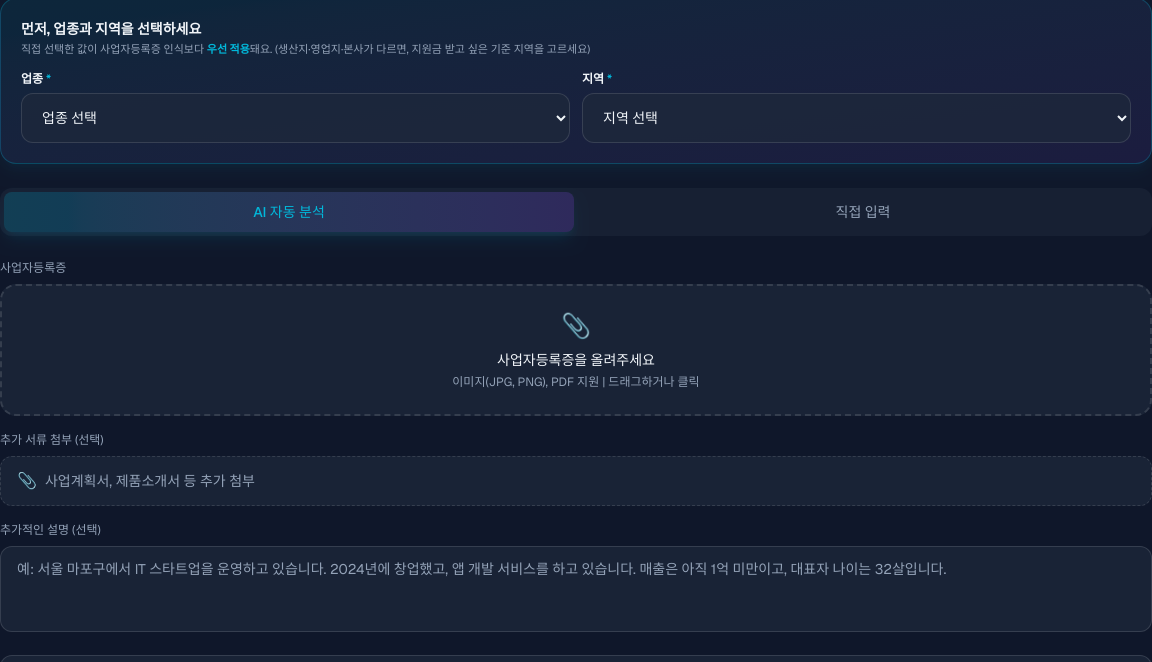
Scenario: ConditionForm: AI 분석 fetch › 분석 성공 시 'AI 분석 결과' 헤더 노출
Replace the text in the text box with placeholder "서울 마포구에서 IT 스타트업" with "테스트" at (576, 589), box [0,546,1151,632]
(page scrolled)
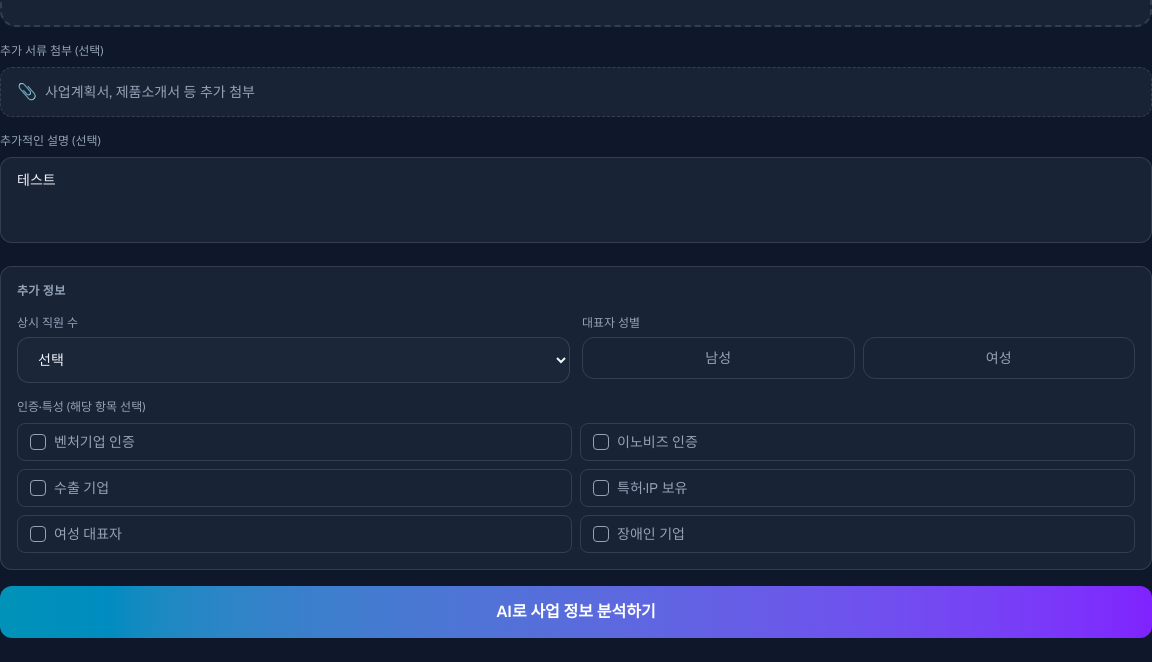
Click the button "AI로 사업 정보 분석하기" at (576, 612), box [0,586,1151,638]
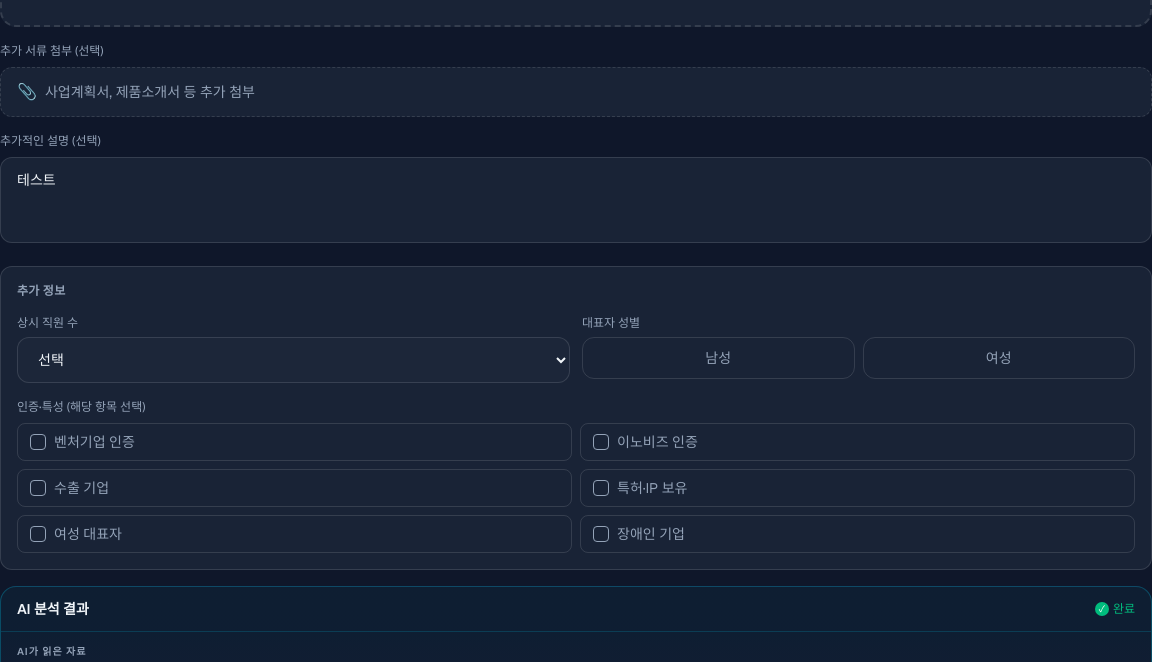
Expected: the text "AI 분석 결과" is shown, [17,599,89,619]
